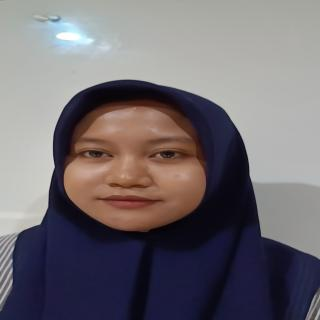Netral: (54, 90, 224, 238)
